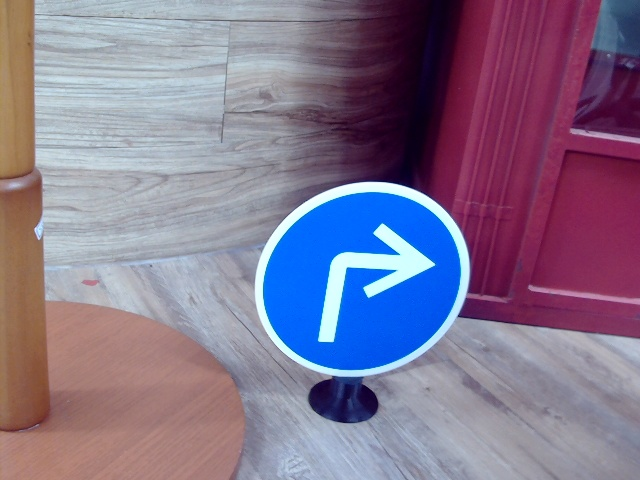turn_right: (317, 219, 430, 350)
